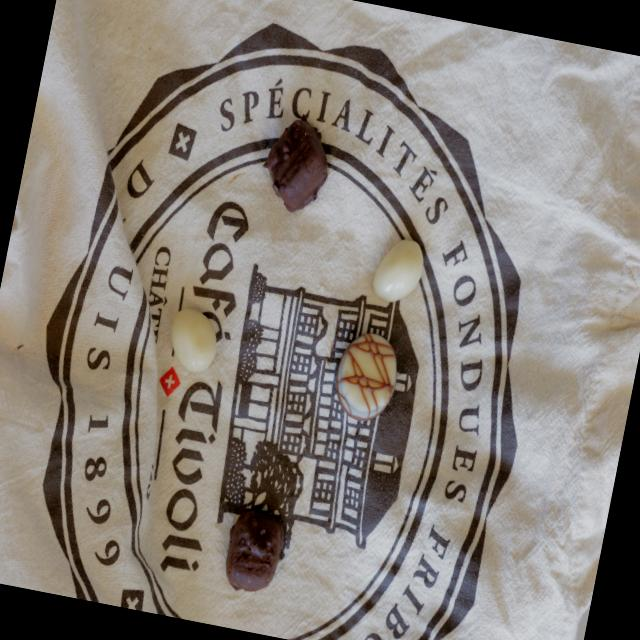Creme_brulee: (330, 329, 404, 426)
Jelly_White: (163, 307, 224, 378), (370, 235, 429, 307)
Tentation_noir: (256, 112, 336, 217), (220, 507, 288, 596)
